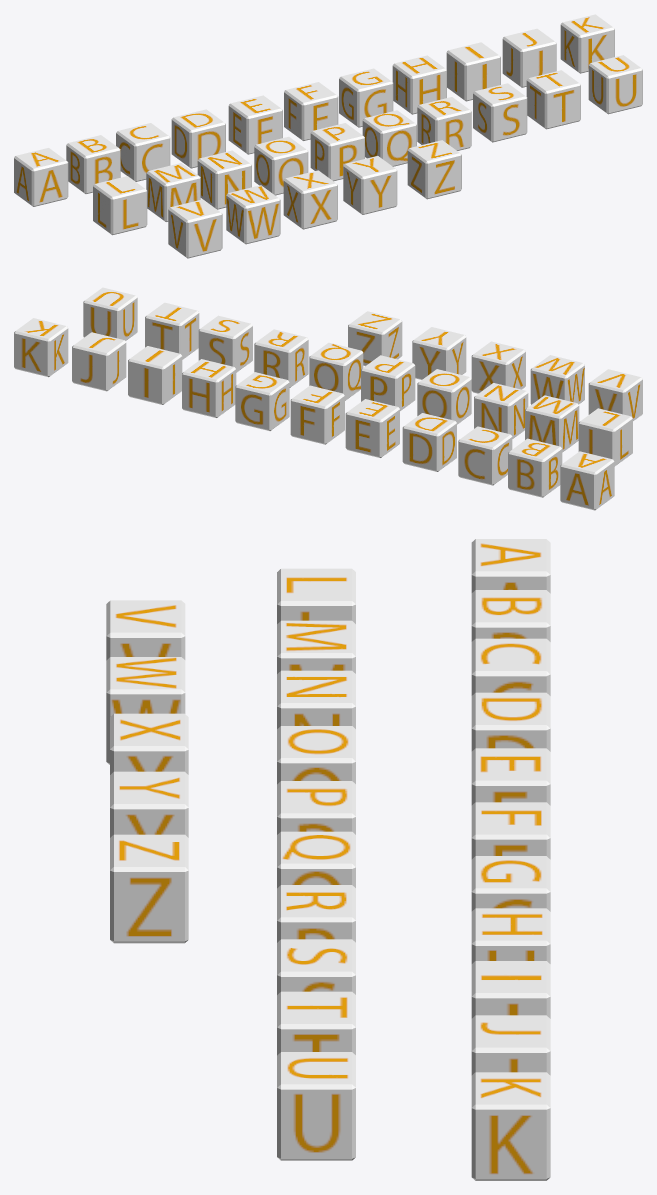
The model's file is THE_Cube.fbx.
3 views of the same model, one above another, from view 1: azimuth 30°, elevation 25°; view 2: azimuth 150°, elevation 25°; view 3: azimuth 270°, elevation 25° (orthographic). The views are drawn at different scales.
Parts seen in each view (by area): view 1: THE_Cube_S, THE_Cube_L, THE_Cube_V, THE_Cube_X, THE_Cube_Y, THE_Cube_A, THE_Cube_W, THE_Cube_U, THE_Cube_Z, THE_Cube_T, THE_Cube_K, THE_Cube_F (+14 smaller); view 2: THE_Cube_A, THE_Cube_G, THE_Cube_F, THE_Cube_J, THE_Cube_K, THE_Cube_D, THE_Cube_E, THE_Cube_I, THE_Cube_H, THE_Cube_B, THE_Cube_C, THE_Cube_U (+14 smaller); view 3: THE_Cube_K, THE_Cube_Z, THE_Cube_U, THE_Cube_Y, THE_Cube_T, THE_Cube_W, THE_Cube_X, THE_Cube_J, THE_Cube_V, THE_Cube_D, THE_Cube_N, THE_Cube_I (+14 smaller).
Boxes of the visible parts, bbox=[...] form: THE_Cube_S: bbox=[473, 83, 527, 142]; THE_Cube_L: bbox=[93, 176, 147, 235]; THE_Cube_V: bbox=[168, 199, 222, 258]; THE_Cube_X: bbox=[283, 170, 337, 229]; THE_Cube_Y: bbox=[343, 156, 397, 214]; THE_Cube_A: bbox=[14, 148, 68, 206]; THE_Cube_W: bbox=[226, 185, 280, 244]; THE_Cube_U: bbox=[588, 55, 642, 114]; THE_Cube_Z: bbox=[407, 140, 461, 199]; THE_Cube_T: bbox=[526, 70, 580, 129]; THE_Cube_K: bbox=[560, 14, 614, 73]; THE_Cube_F: bbox=[284, 82, 338, 140]; THE_Cube_A: bbox=[560, 451, 614, 510]; THE_Cube_G: bbox=[235, 372, 289, 430]; THE_Cube_F: bbox=[290, 385, 344, 444]; THE_Cube_J: bbox=[72, 332, 126, 391]; THE_Cube_K: bbox=[14, 318, 68, 377]; THE_Cube_D: bbox=[402, 413, 456, 471]; THE_Cube_E: bbox=[345, 399, 399, 457]; THE_Cube_I: bbox=[128, 346, 182, 404]; THE_Cube_H: bbox=[182, 359, 236, 417]; THE_Cube_B: bbox=[508, 438, 562, 497]; THE_Cube_C: bbox=[458, 426, 512, 485]; THE_Cube_U: bbox=[83, 287, 137, 340]; THE_Cube_K: bbox=[471, 1072, 550, 1180]; THE_Cube_Z: bbox=[110, 834, 188, 943]; THE_Cube_U: bbox=[277, 1052, 355, 1160]; THE_Cube_Y: bbox=[110, 771, 188, 837]; THE_Cube_T: bbox=[277, 991, 355, 1055]; THE_Cube_W: bbox=[106, 657, 185, 764]; THE_Cube_X: bbox=[110, 713, 188, 774]; THE_Cube_J: bbox=[471, 1015, 550, 1075]; THE_Cube_V: bbox=[106, 600, 185, 660]; THE_Cube_D: bbox=[471, 692, 550, 751]; THE_Cube_N: bbox=[277, 670, 355, 728]; THE_Cube_I: bbox=[471, 961, 550, 1018].
Size of the model in its own units: 3477 by 218 by 1147.
Materials: 1 (1 with a texture image).
